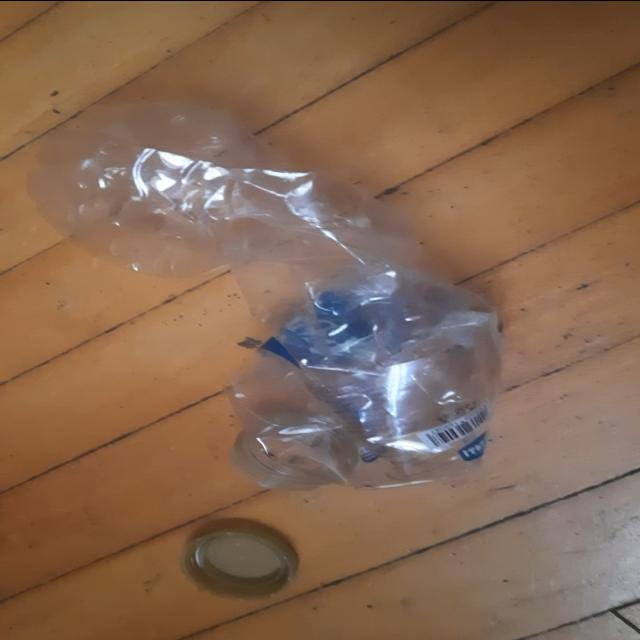Plastic: (25, 99, 503, 487)
